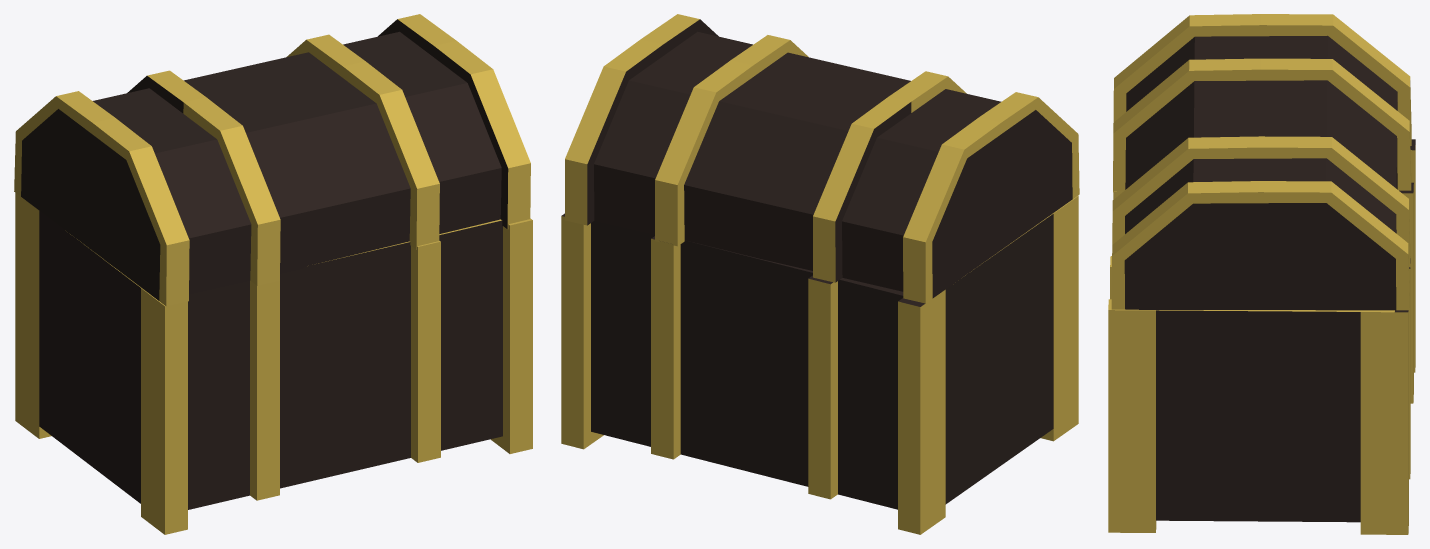
File: chest for reward.glb
3 views of the same model, side by side, from view 1: azimuth 30°, elevation 25°; view 2: azimuth 150°, elevation 25°; view 3: azimuth 270°, elevation 25° (orthographic). The views are drawn at different scales.
Parts seen in each view (by area): view 1: Lid_Material_0; view 2: Lid_Material_0; view 3: Lid_Material_0.
Part boxes in pixels (x1,y1,x2,y2): Lid_Material_0: (14,14,532,534); Lid_Material_0: (561,14,1079,534); Lid_Material_0: (1108,14,1415,534).
Size of the model in its own units: 7.64 by 7.06 by 5.67.
